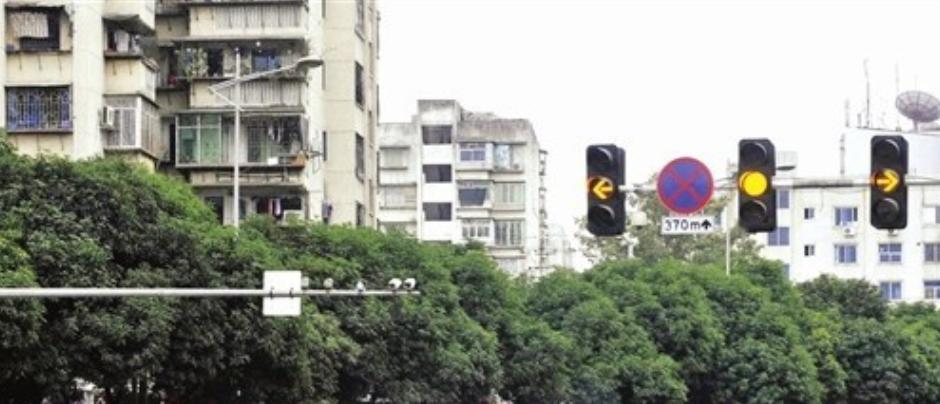yellow_light: (870, 135, 907, 228), (739, 139, 775, 229), (587, 144, 619, 235)
